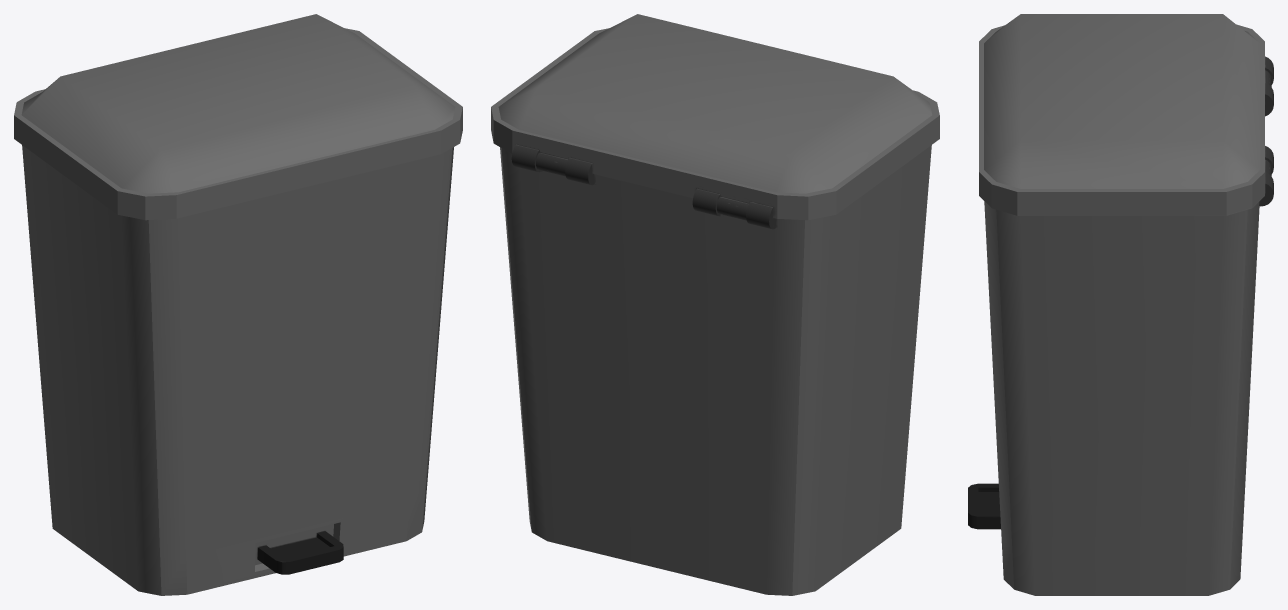
Rendered from bin textured.fbx.
3 views of the same model, side by side, from view 1: azimuth 30°, elevation 25°; view 2: azimuth 150°, elevation 25°; view 3: azimuth 270°, elevation 25° (orthographic).
Visible parts, largest first — view 1: pCylinder3; view 2: pCylinder3; view 3: pCylinder3.
Boxes of the visible parts, bbox=[...] form: pCylinder3: bbox=[14, 14, 462, 595]; pCylinder3: bbox=[491, 14, 939, 595]; pCylinder3: bbox=[968, 14, 1273, 595].
Bounding box in the file's own units: 6.83 × 8.38 × 5.18.
Materials: 1 (1 with a texture image).
